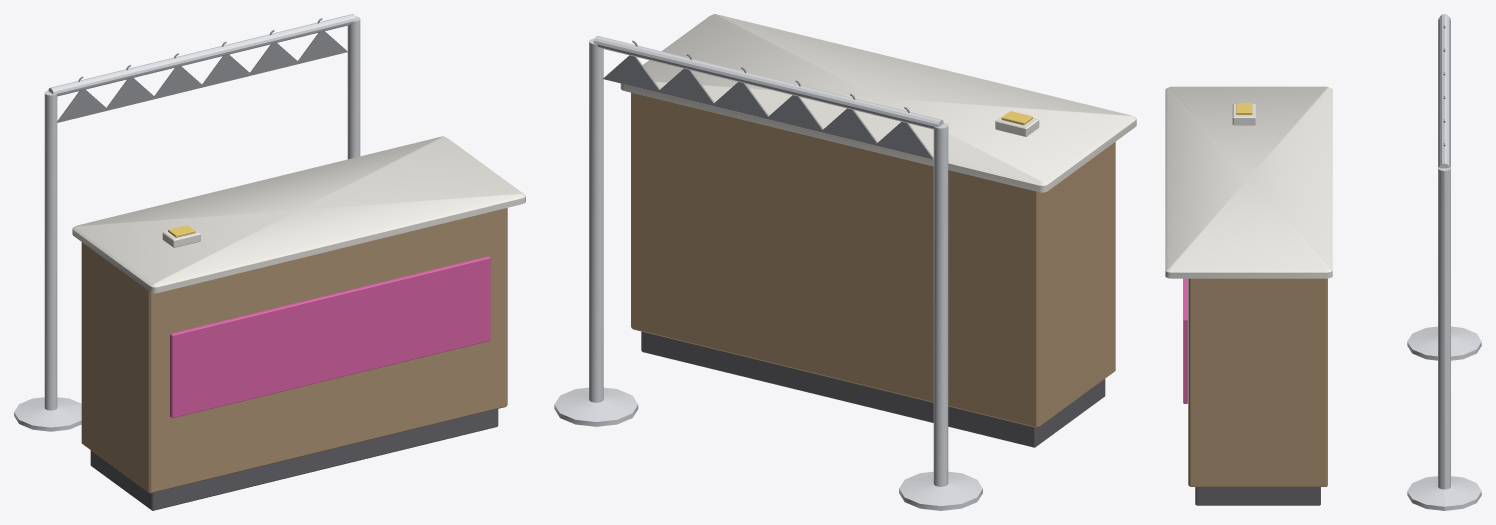
The model's file is nightclub-and-dj-booth-cloakroom-counter-with-rails-c6d08198.glb.
The picture shows the model from 3 angles, left to right: view 1: azimuth 30°, elevation 25°; view 2: azimuth 150°, elevation 25°; view 3: azimuth 270°, elevation 25°; orthographic projection. The views are drawn at different scales.
Parts seen in each view (by area): view 1: cloakroom-counter-with-rails; view 2: cloakroom-counter-with-rails; view 3: cloakroom-counter-with-rails.
Part boxes in pixels (x1,y1,x2,y2): cloakroom-counter-with-rails: (14, 14, 525, 510); cloakroom-counter-with-rails: (554, 14, 1136, 510); cloakroom-counter-with-rails: (1165, 14, 1481, 510).
Bounding box in the file's own units: 1.88 × 1.59 × 1.36.
